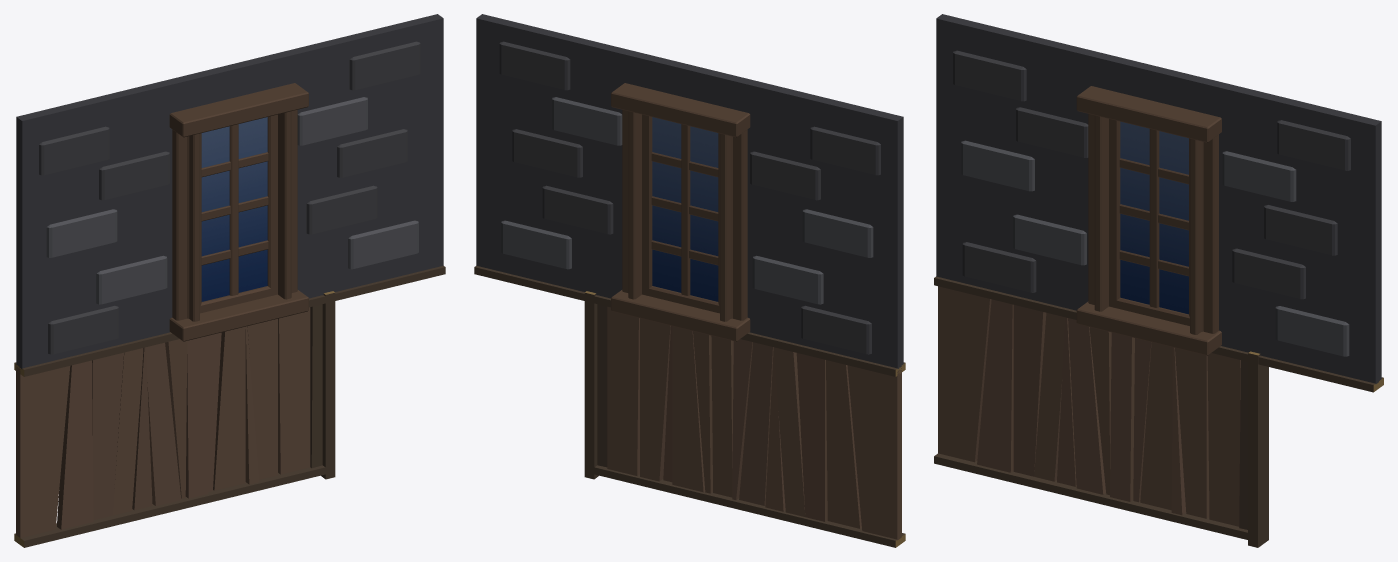
File: Wall_2G_Win_Door_6m.fbx
3 views of the same model, side by side, from view 1: azimuth 30°, elevation 25°; view 2: azimuth 150°, elevation 25°; view 3: azimuth 330°, elevation 25° (orthographic). The views are drawn at different scales.
Visible parts, largest first — view 1: pCube2427; view 2: pCube2427; view 3: pCube2427.
Boxes of the visible parts, x1,y1,x2,y2 form: pCube2427: (14,14,445,547); pCube2427: (474,14,905,547); pCube2427: (934,14,1383,547).
Bounding box in the file's own units: 600 × 585 × 80.
